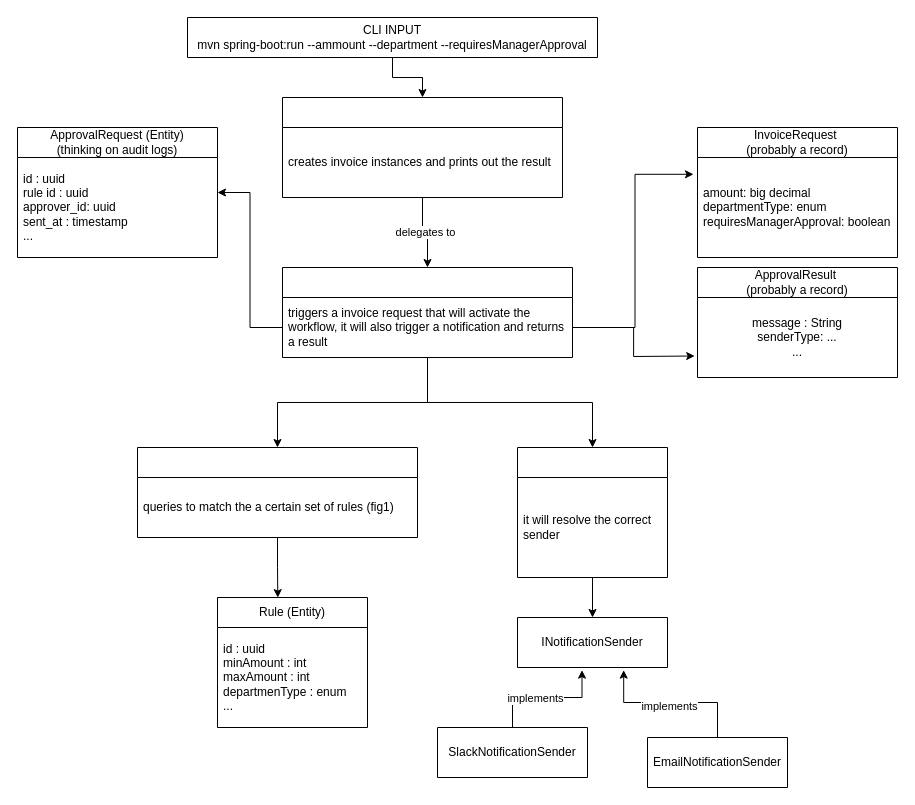
The diagram is 915 pixels wide and 805 high, and some of its shapes have lost their labels. Here are the shapes that lost their labels. From the top down, the box of each, then its label:
(282, 96, 562, 198): ApprovalWorkflowApplication
(282, 266, 572, 358): WorkflowService
(136, 446, 418, 538): RuleRepository (JPA)
(516, 446, 668, 578): NotificationService
